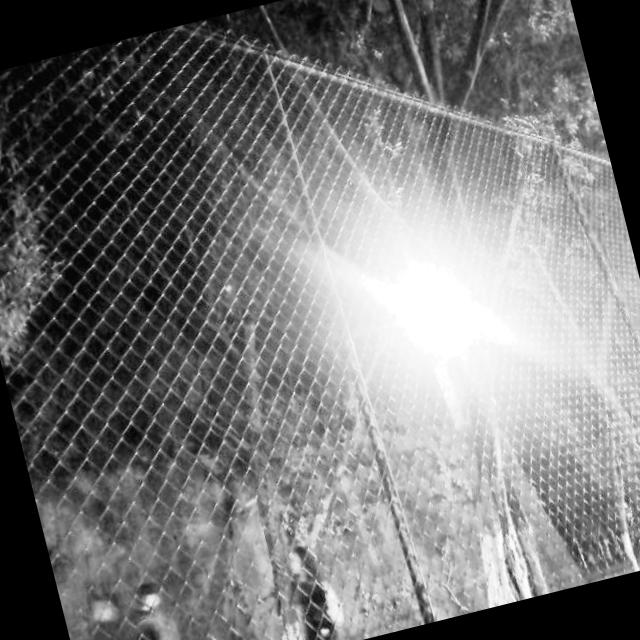Light: (398, 270, 477, 379)
